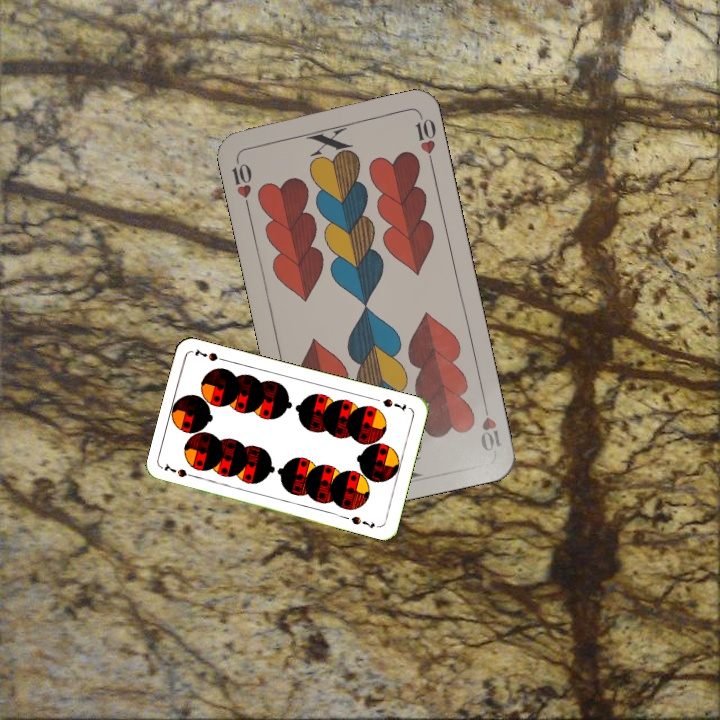H10: (476, 396, 505, 454), (228, 153, 255, 212)
S7: (160, 460, 200, 480), (379, 395, 409, 414)
